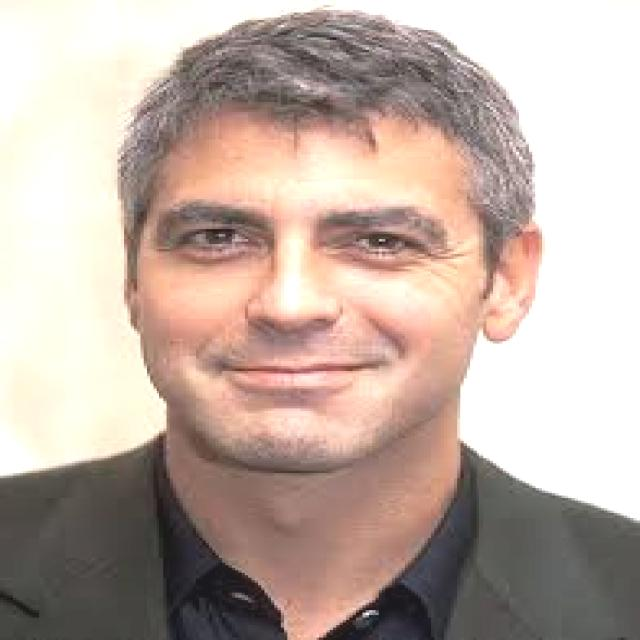normal_face: (113, 58, 538, 470)
